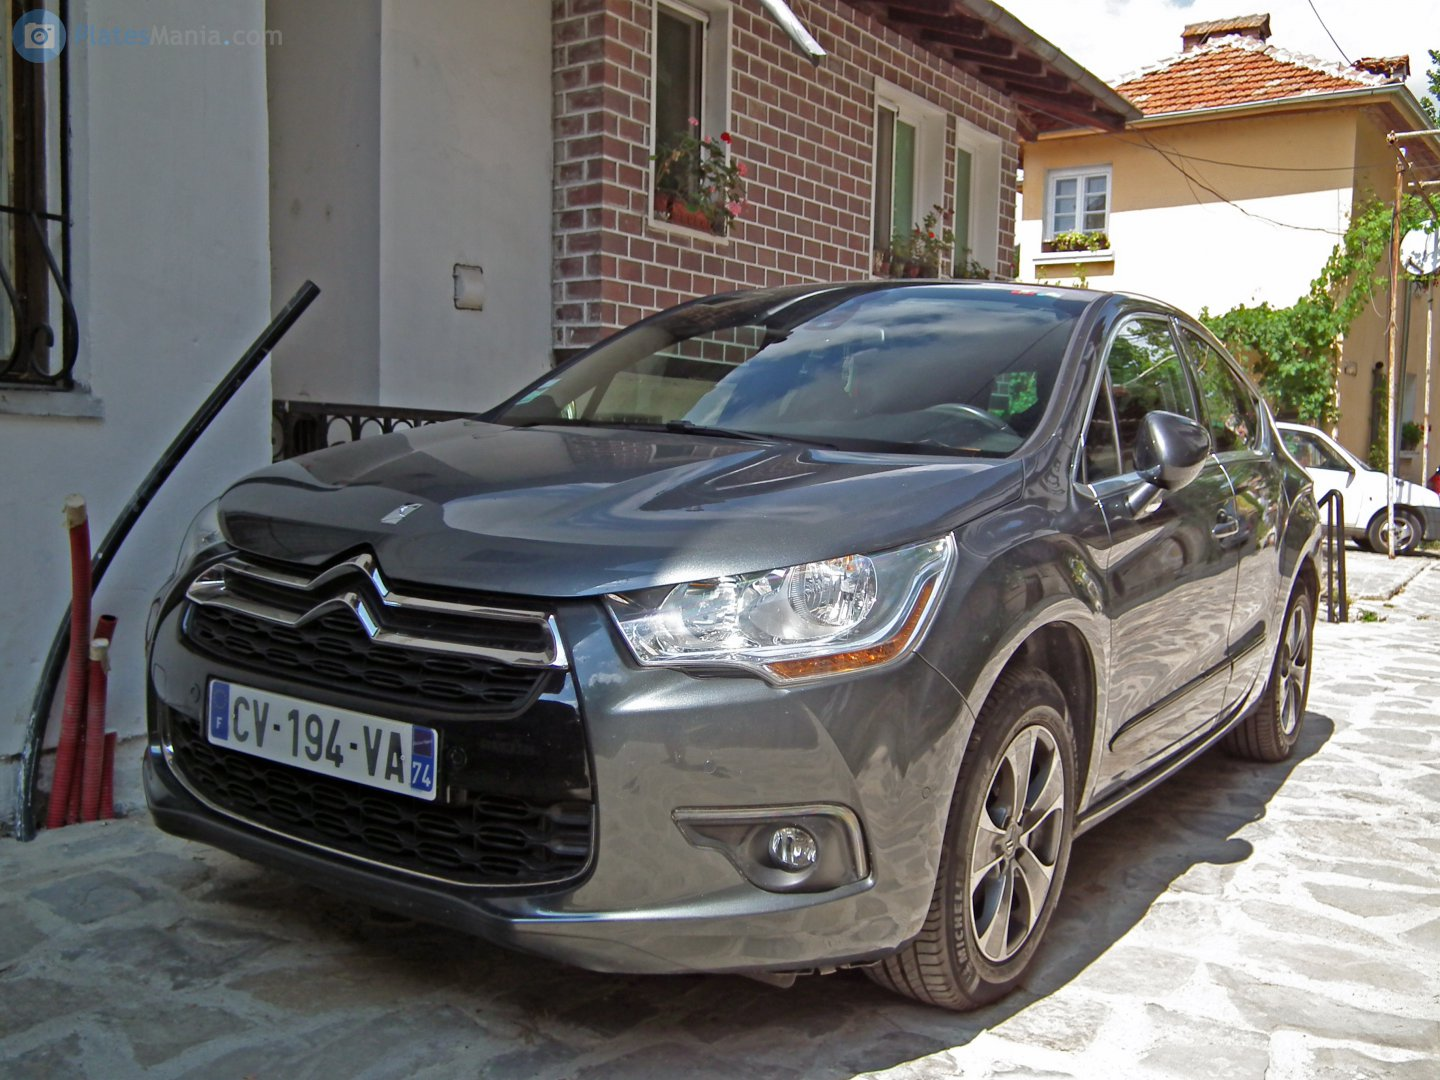licence plate: (202, 671, 443, 804)
